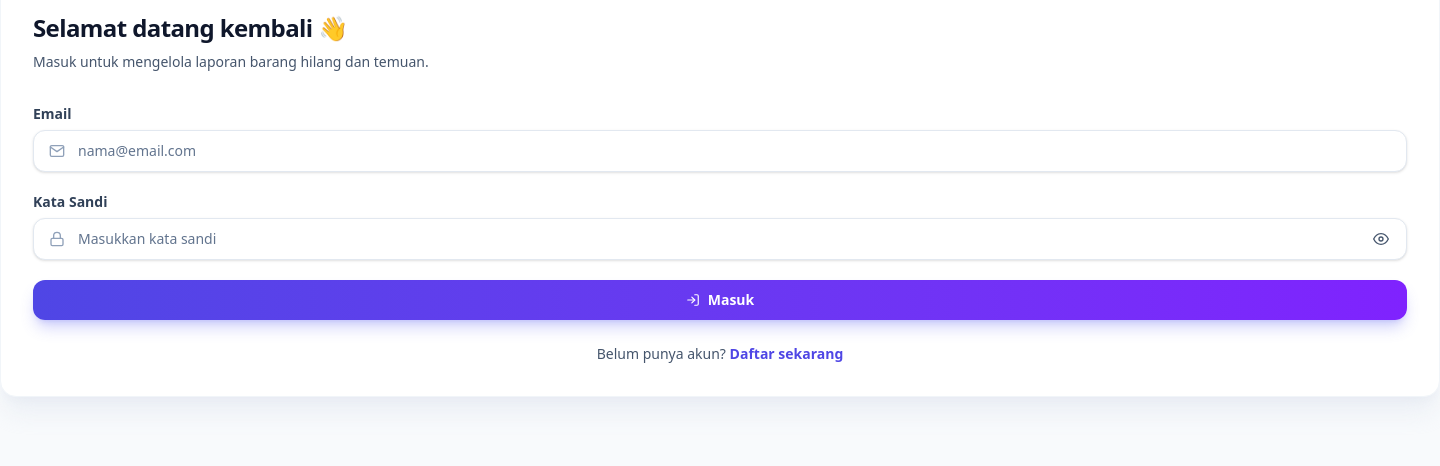
Test case: LoginPage › menampilkan pesan format email tidak valid dan sandi terlalu pendek
Type "bukan-email" into the field labelled "Email" at (720, 151), box [33, 130, 1407, 172]
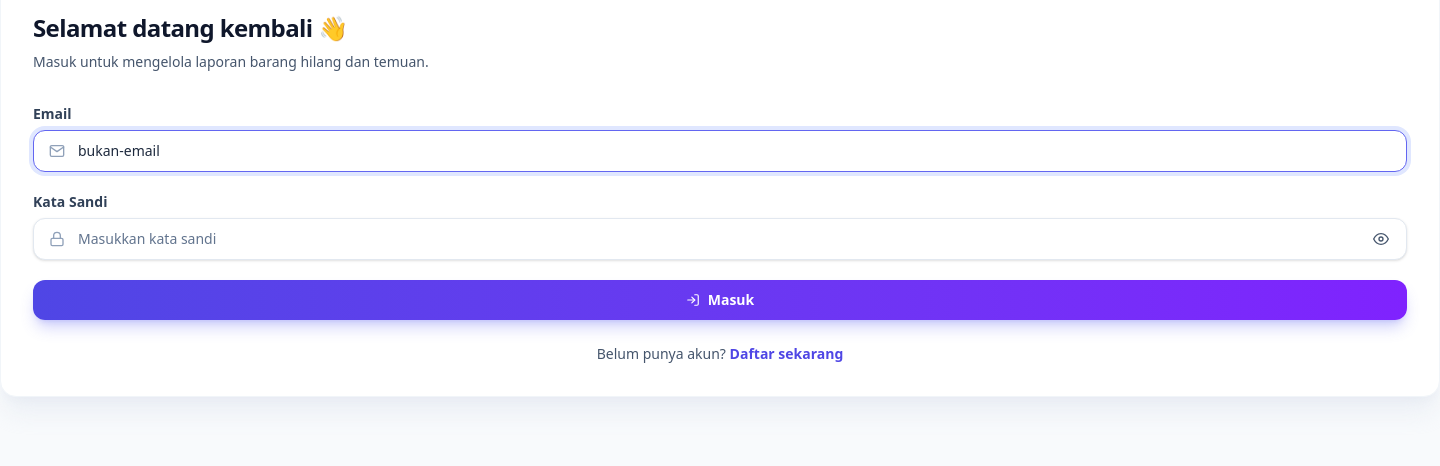
Type "123" into the password field labelled "Kata Sandi" at (720, 239), box [33, 218, 1407, 260]
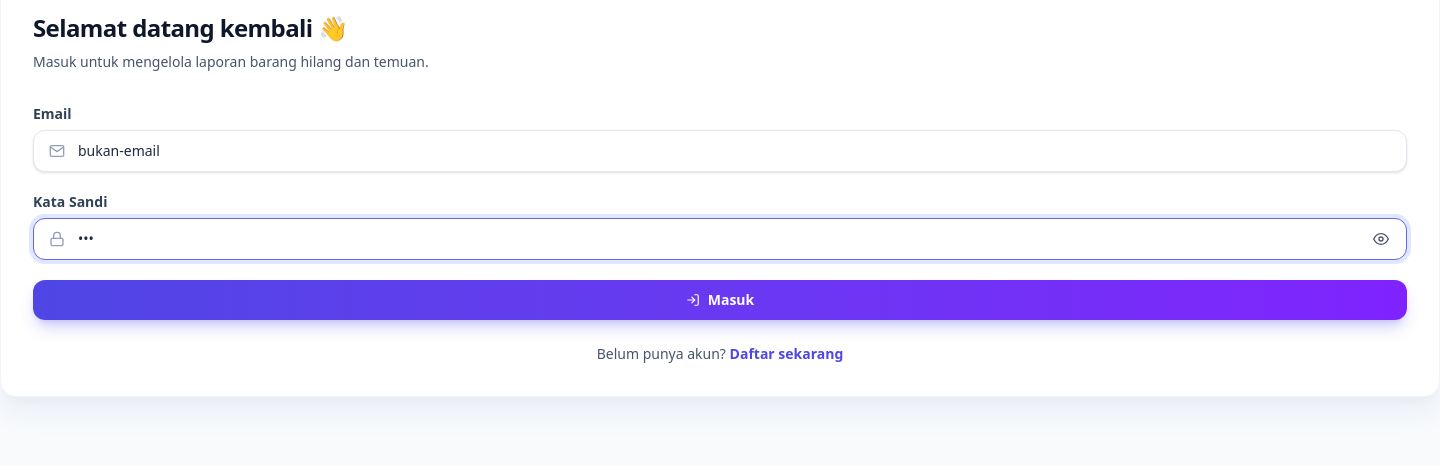
Click the button "Masuk" at (720, 300), box [33, 280, 1407, 320]
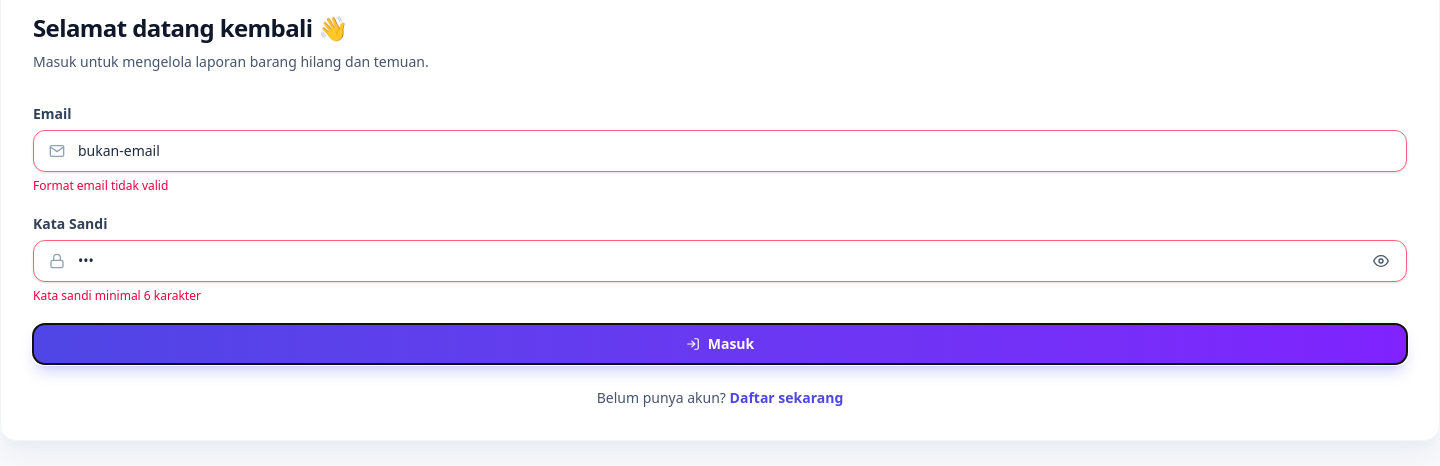
Expected: the text "Format email tidak valid" is shown, [33, 177, 168, 194]
Expected: the text "Kata sandi minimal 6 karakter" is shown, [33, 287, 201, 304]
